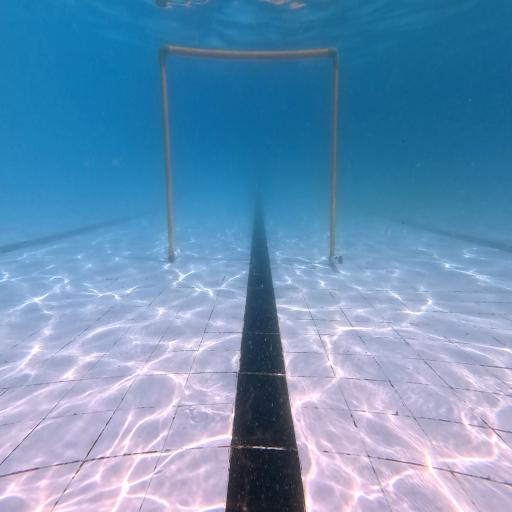gate: (159, 44, 343, 264)
